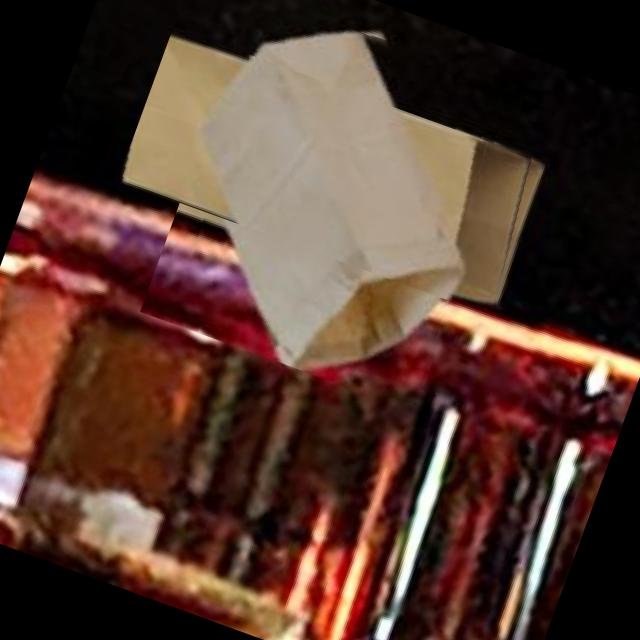PaperCardboard: (123, 39, 528, 299), (195, 32, 454, 368)
